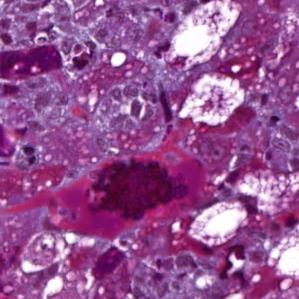ballooning: (167, 2, 243, 74), (176, 72, 249, 127), (188, 198, 249, 249), (19, 229, 74, 276)
